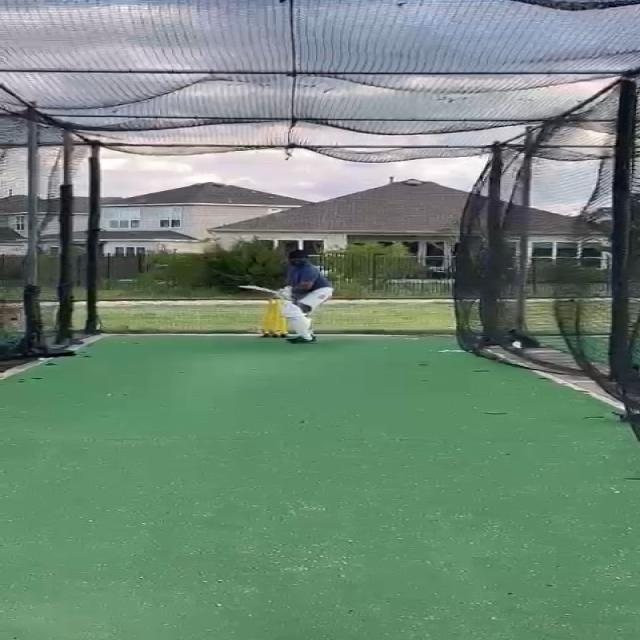batsman: (238, 248, 334, 345)
